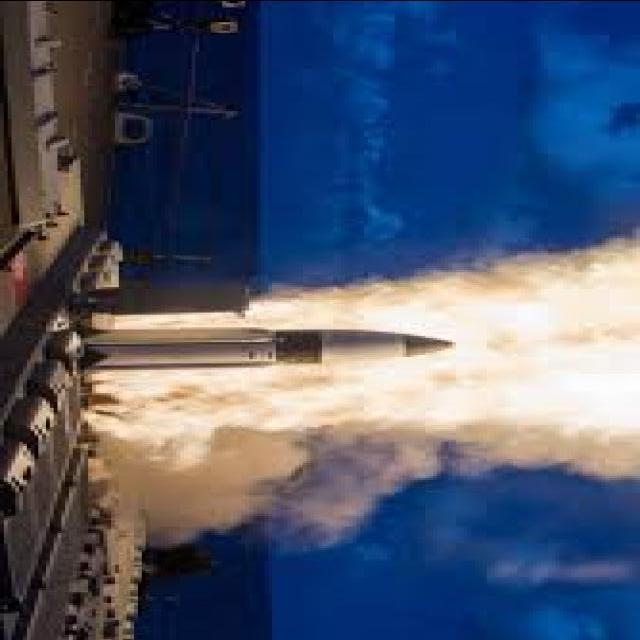missile: (70, 307, 464, 382)
